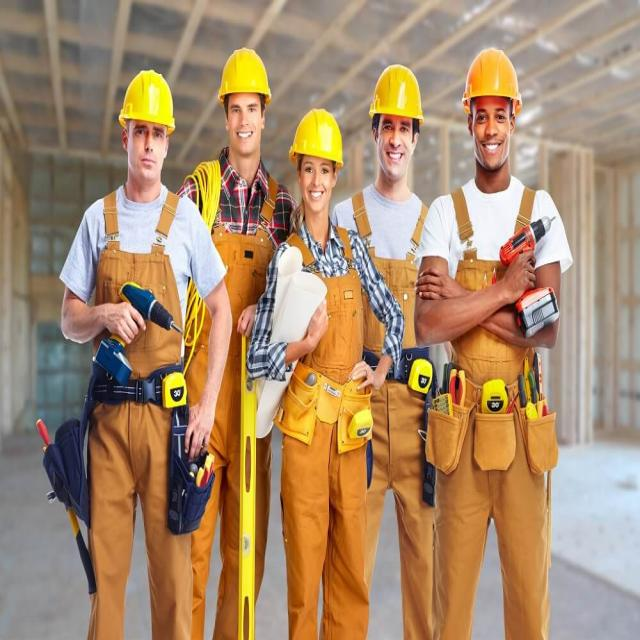Safety-Helmet: (458, 44, 523, 112), (117, 66, 177, 134), (368, 62, 427, 123), (288, 105, 346, 167), (216, 45, 273, 104)
